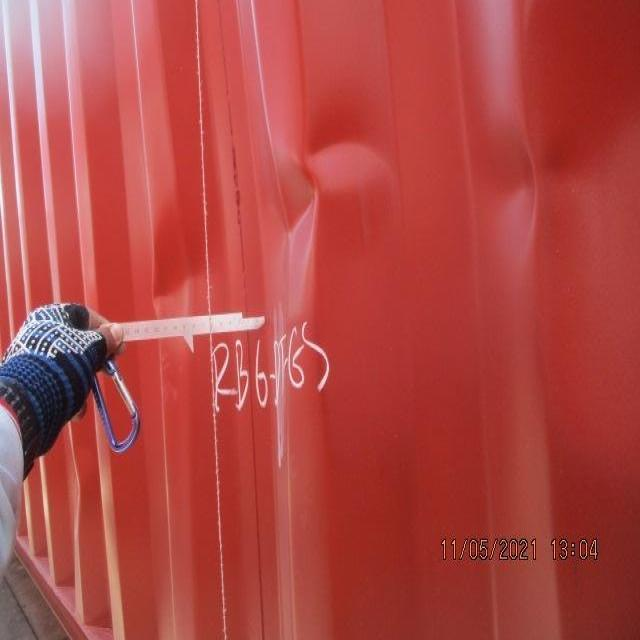dent: (76, 76, 563, 480)
